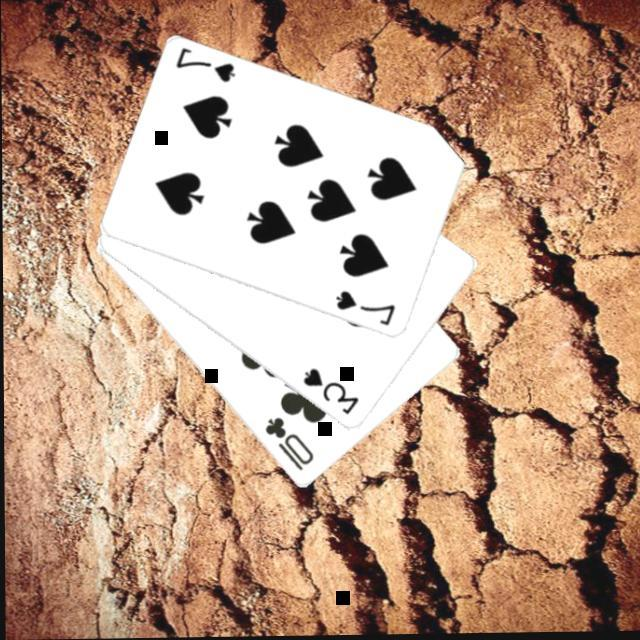10C: (258, 414, 314, 475)
3S: (297, 364, 359, 419)
7S: (330, 286, 396, 330), (170, 44, 236, 87)
